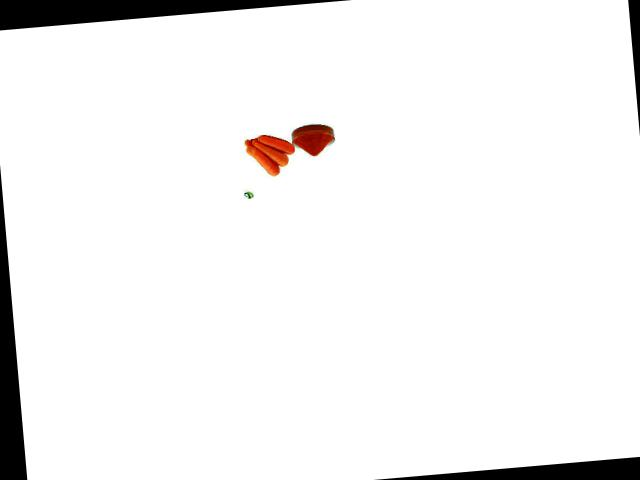carrot: (254, 128, 295, 157)
